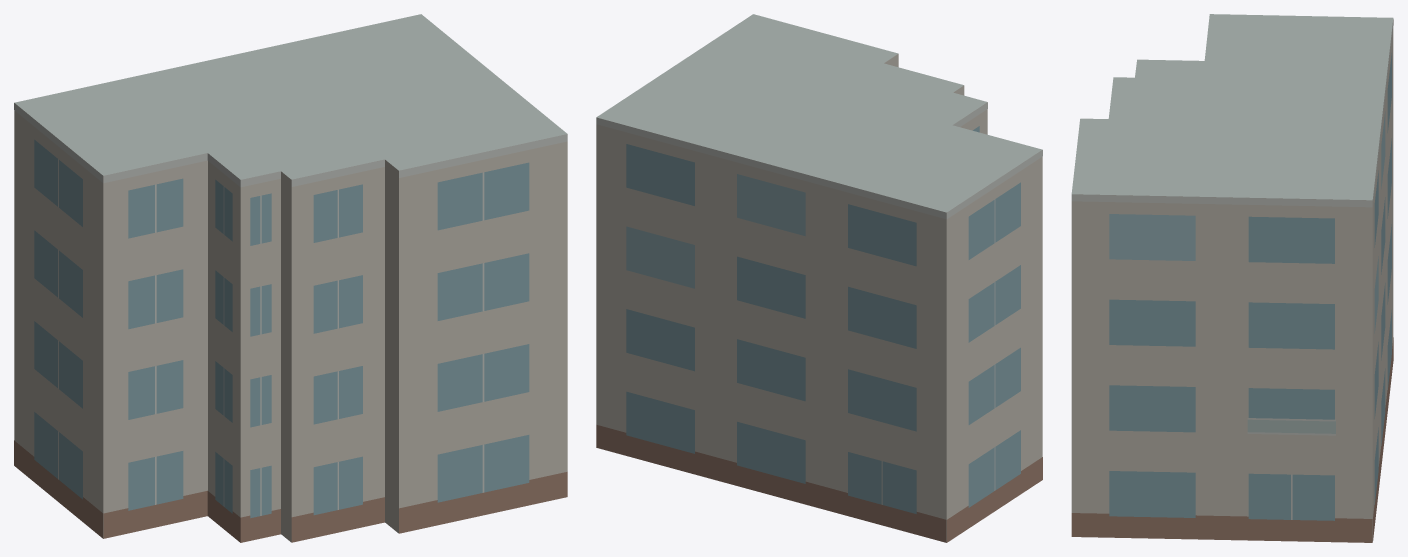
The model's file is survey-upis-32775941.glb.
The picture shows the model from 3 angles, left to right: view 1: azimuth 30°, elevation 25°; view 2: azimuth 150°, elevation 25°; view 3: azimuth 270°, elevation 25°; orthographic projection. The views are drawn at different scales.
Visible parts, largest first — view 1: survey-upis-32775941.tmp; view 2: survey-upis-32775941.tmp; view 3: survey-upis-32775941.tmp.
Boxes of the visible parts, x1,y1,x2,y2 form: survey-upis-32775941.tmp: (14,14,567,542); survey-upis-32775941.tmp: (596,14,1042,542); survey-upis-32775941.tmp: (1071,14,1393,542).
Size of the model in its own units: 13.82 by 11.85 by 10.1.
